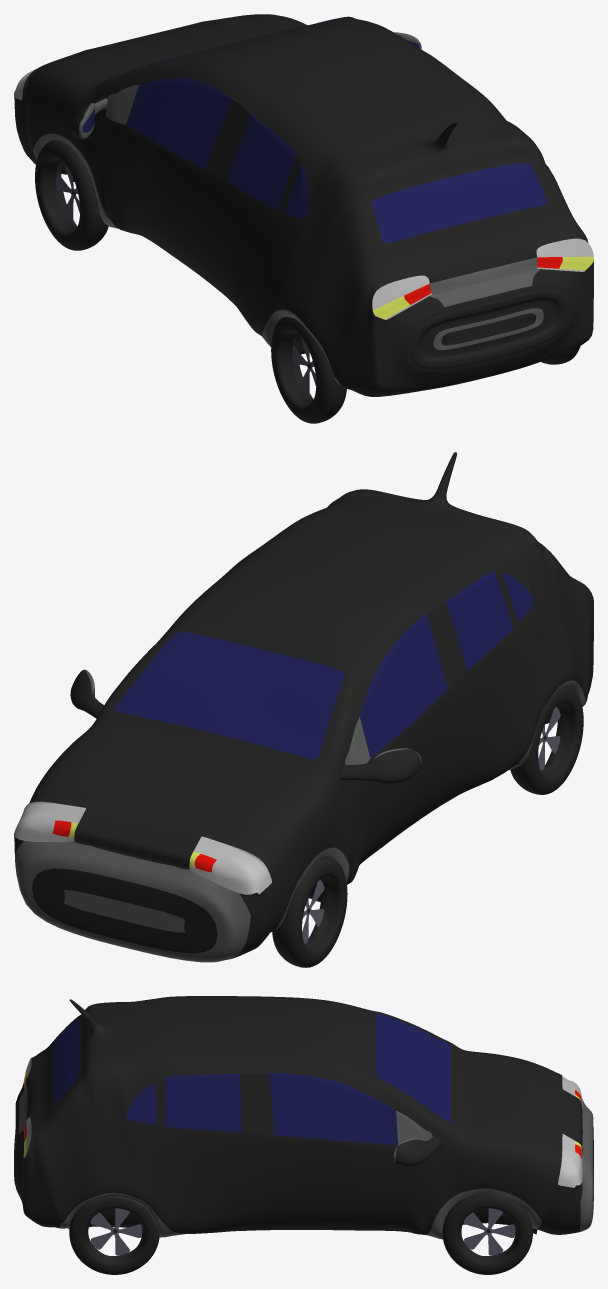
Rendered from Carrinho.fbx.
3 renders of one model, top to bottom at view 1: azimuth 30°, elevation 25°; view 2: azimuth 150°, elevation 25°; view 3: azimuth 270°, elevation 25°, orthographic. The views are drawn at different scales.
Parts seen in each view (by area): view 1: Cube, Circle.007, Circle.001, Cube.005, Circle.008, Circle.006; view 2: Cube, Cube.004, Circle.007, Circle.001; view 3: Cube, Circle.007, Circle.001, Cube.004, Circle.008, Circle.006.
Boxes of the visible parts, x1,y1,x2,y2 form: Cube: (14,14,593,396); Circle.007: (35,140,108,250); Circle.001: (271,316,580,423); Cube.005: (372,238,593,319); Circle.008: (56,165,79,222); Circle.006: (292,338,316,395); Cube: (14,452,593,962); Cube.004: (14,801,271,894); Circle.007: (272,856,347,967); Circle.001: (510,687,583,794); Cube: (14,996,593,1239); Circle.007: (442,1193,532,1274); Circle.001: (69,1197,159,1274); Cube.004: (558,1076,582,1187); Circle.008: (463,1208,515,1255); Circle.006: (90,1208,142,1255).
Size of the model in its own units: 1446 by 1159 by 2679.
